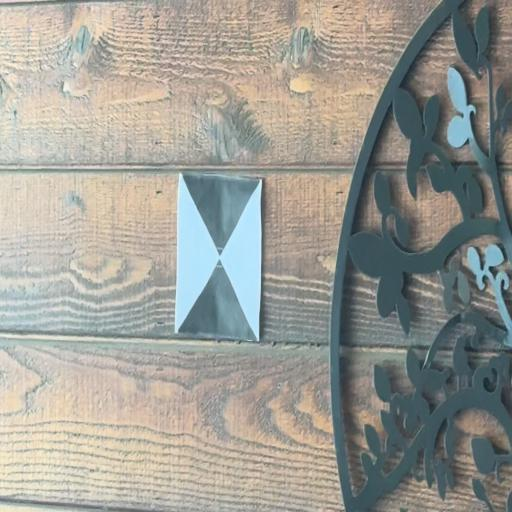target: (176, 173, 261, 341)
